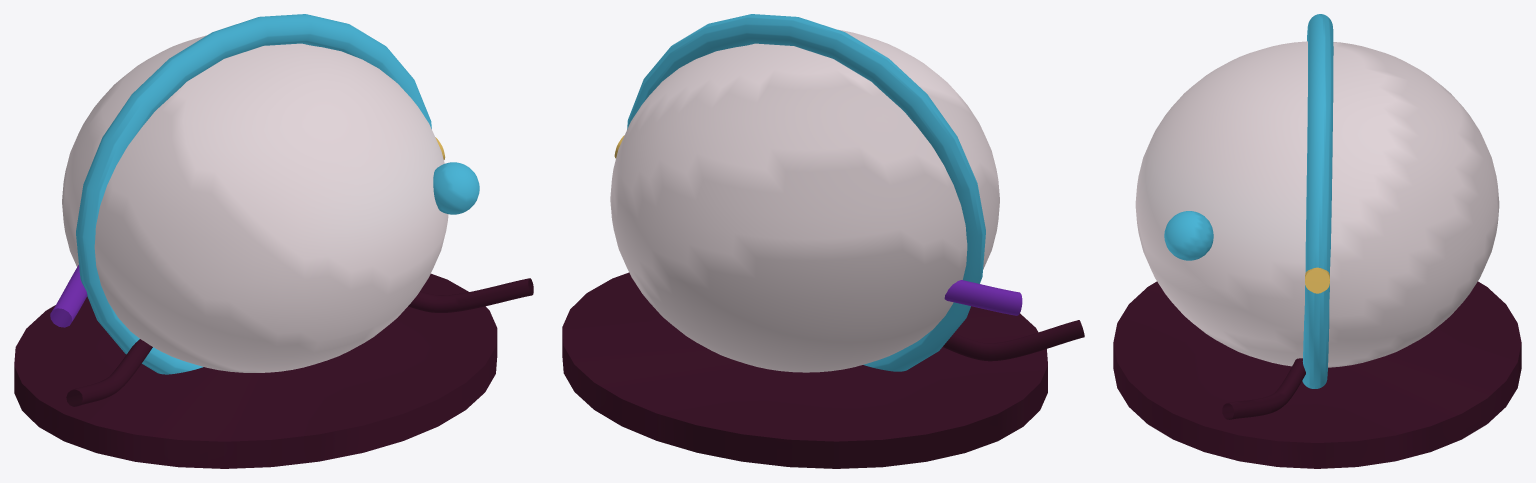
Rendered from 0435_微生物图鉴_天花病毒.glb.
The picture shows the model from 3 angles, left to right: view 1: azimuth 30°, elevation 25°; view 2: azimuth 150°, elevation 25°; view 3: azimuth 270°, elevation 25°; orthographic projection. The views are drawn at different scales.
Visible parts, largest first — view 1: card_0435; view 2: card_0435; view 3: card_0435.
Part boxes in pixels (left/top/right/bottom): card_0435: left=14, top=14, right=533, bottom=468; card_0435: left=562, top=14, right=1084, bottom=468; card_0435: left=1113, top=14, right=1521, bottom=468.
Size of the model in its own units: 1.36 by 1 by 1.09.
